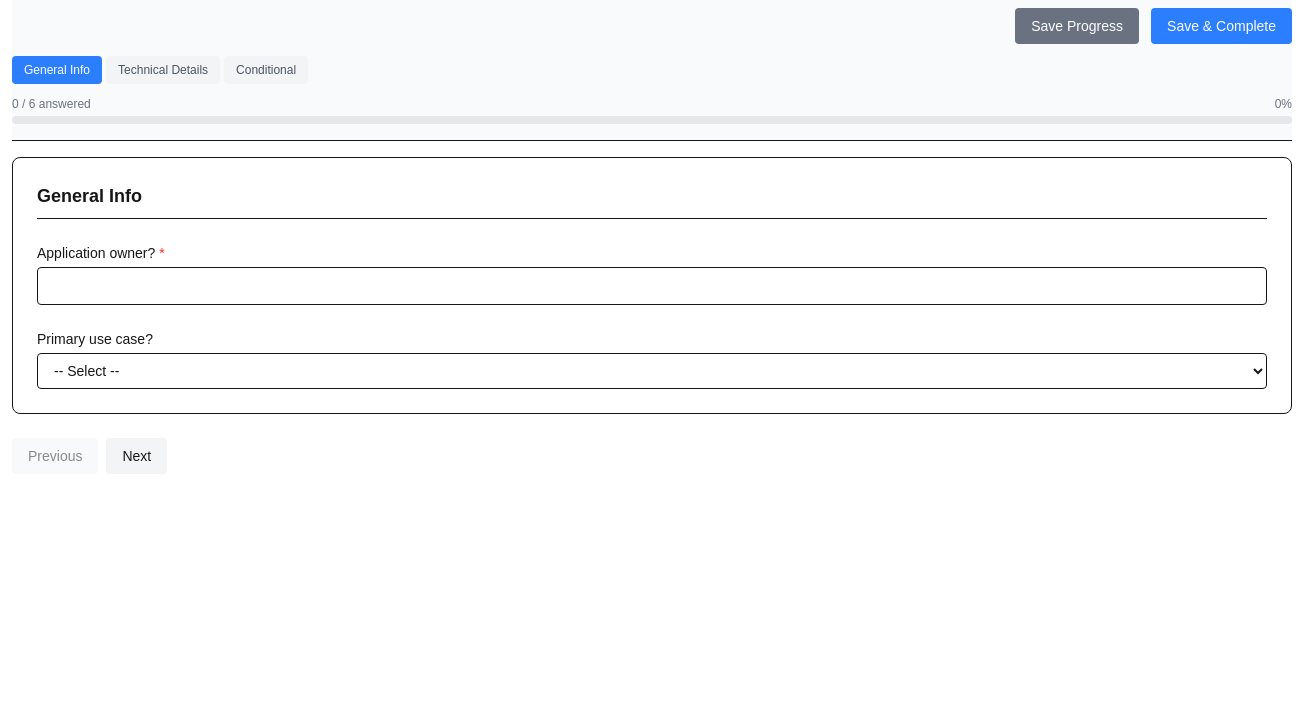
Test: AppQuestionsForm › disables Next on last section
Navigate to last section
Click the button "Next".
click(137, 456)  # box [106,438,167,474]
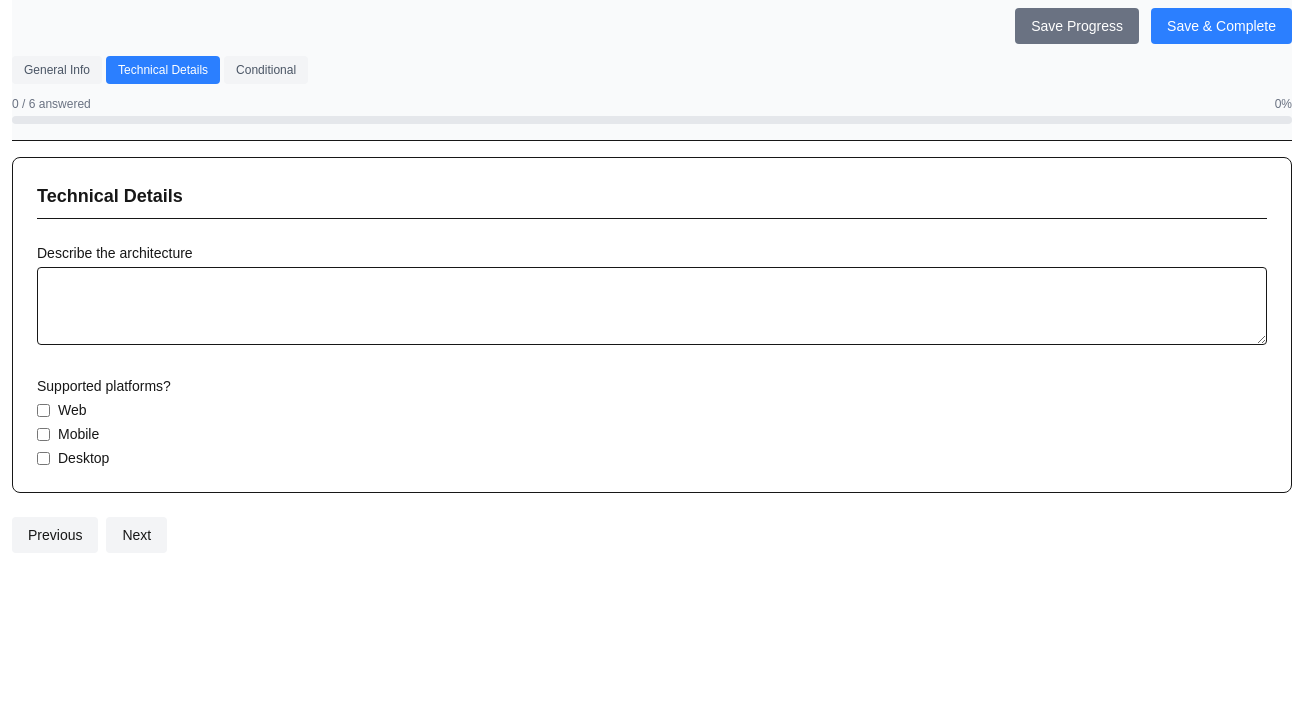
Click the button "Next".
click(137, 535)  # box [106,517,167,553]
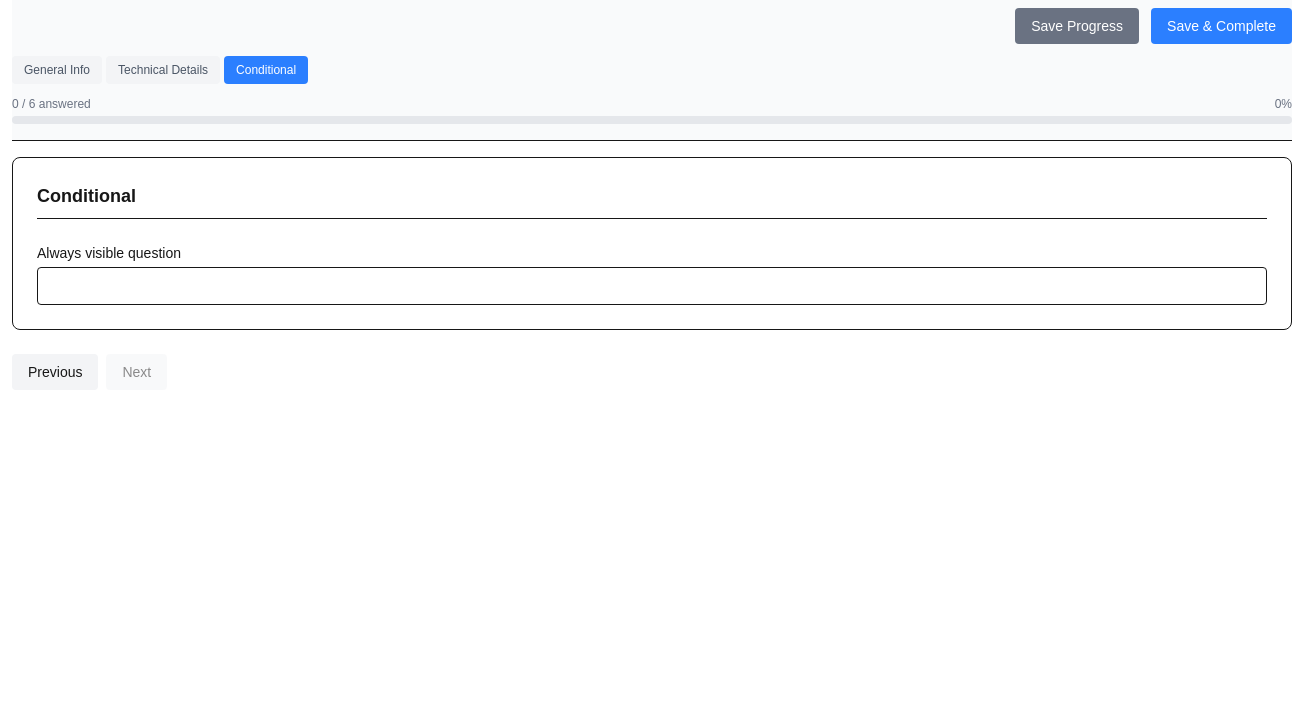
expect the button "Next" is disabled: met, box [106,354,167,390]
